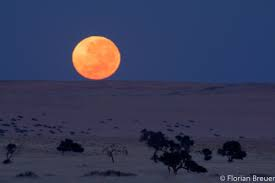moon: (69, 34, 122, 79)
